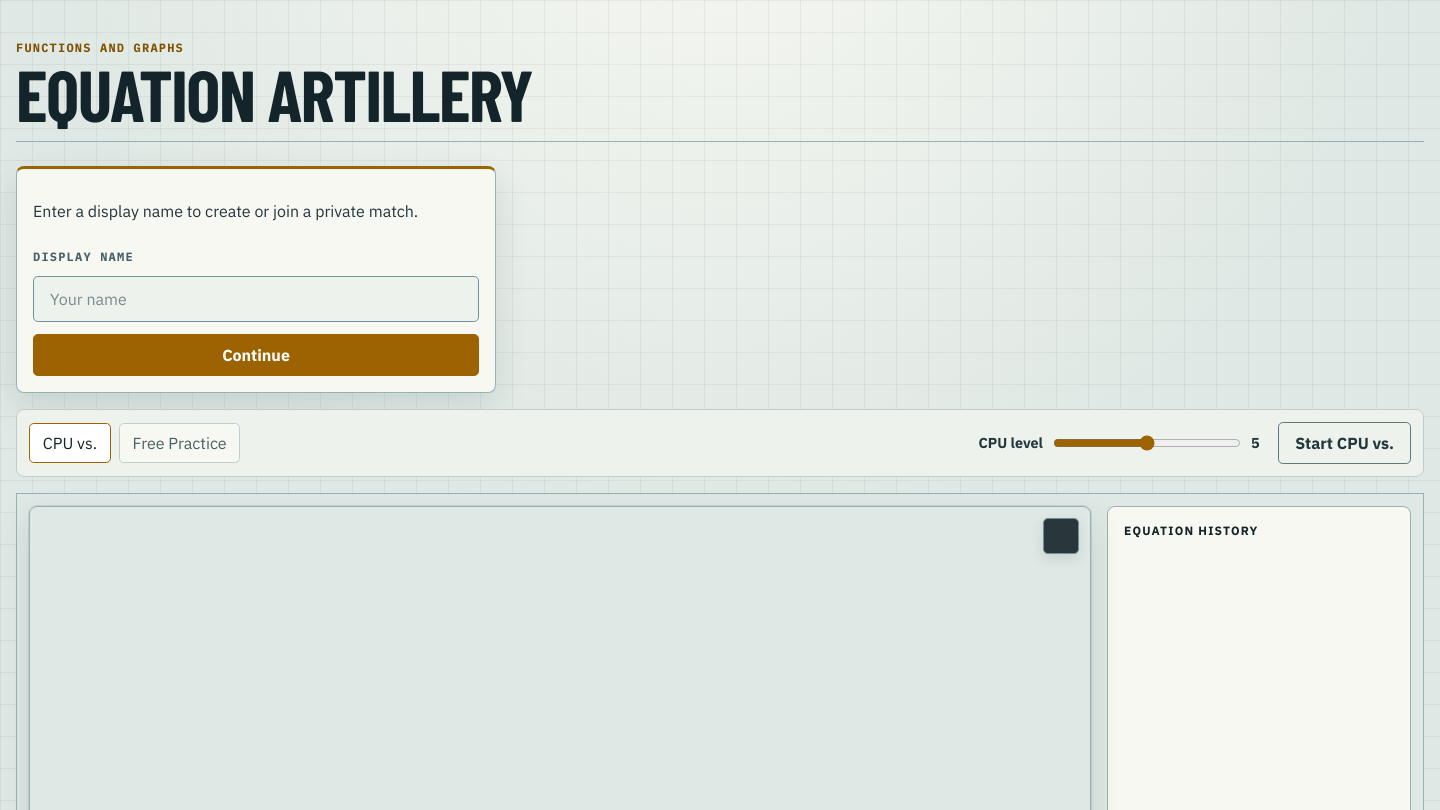
Scenario: EquationArtilleryPageComponent › shows a selectable free practice mode without targets, walls, or CPU setup
This screenshot has width=1440, height=810.
Click the button with class "mode-tab" showing "Free Practice". click: (180, 443)
box: 119,423 -> 240,463
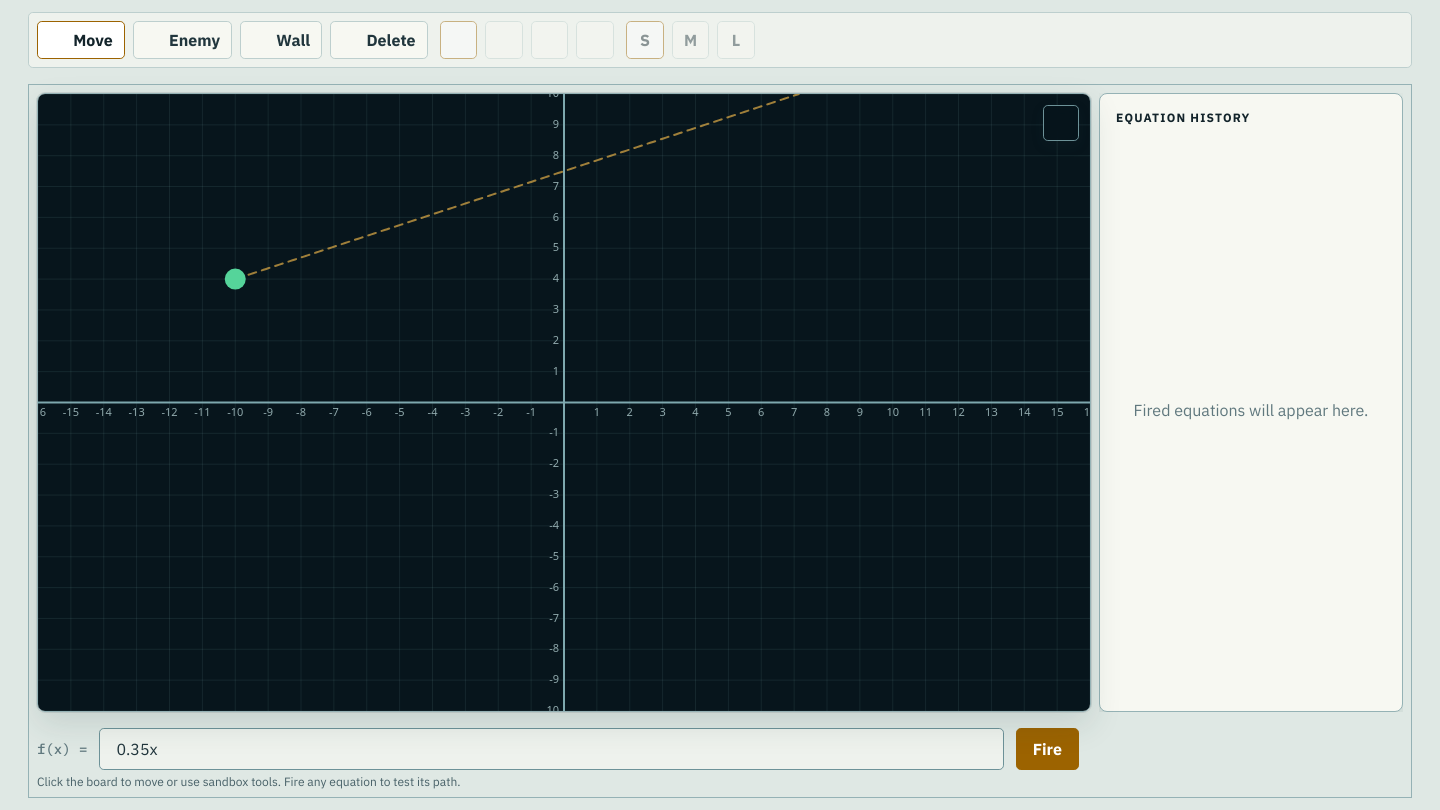
Check: the element with class "difficulty-control" is gone
